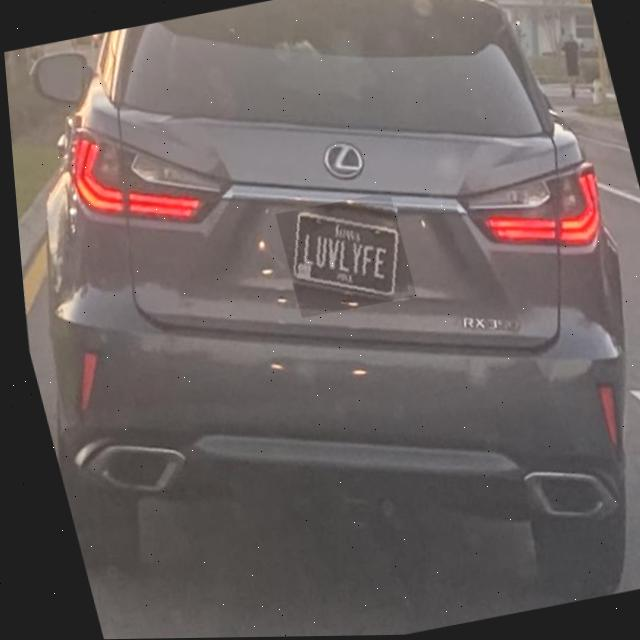LicensePlate: (288, 211, 396, 302)
